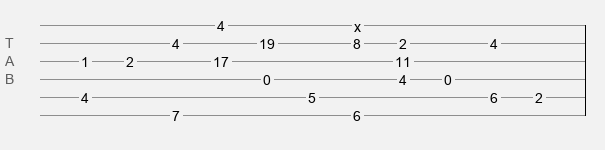0: (263, 72, 271, 82), (444, 72, 452, 82)
1: (81, 54, 89, 64)
11: (395, 54, 411, 64)
17: (213, 54, 229, 64)
19: (259, 36, 275, 46)
2: (126, 54, 134, 64), (399, 36, 407, 46), (535, 90, 543, 100)
4: (81, 90, 89, 100), (172, 36, 180, 46), (217, 18, 225, 28), (399, 72, 407, 82), (490, 36, 498, 46)
5: (308, 90, 316, 100)
6: (353, 108, 361, 118), (490, 90, 498, 100)
7: (172, 108, 180, 118)
8: (353, 36, 361, 46)
x: (354, 19, 361, 27)
